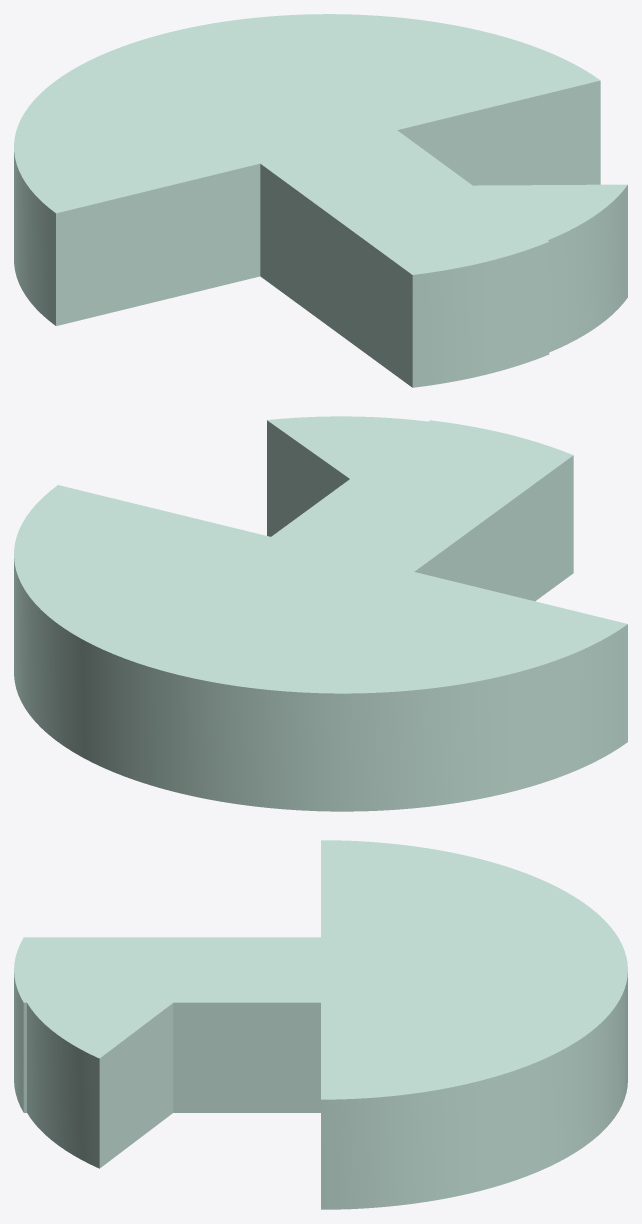
Rendered from orig.gltf.
3 views of the same model, one above another, from view 1: azimuth 30°, elevation 25°; view 2: azimuth 150°, elevation 25°; view 3: azimuth 270°, elevation 25° (orthographic). The views are drawn at different scales.
Visible parts, largest first — view 1: Renderer Node; view 2: Renderer Node; view 3: Renderer Node.
Part boxes in pixels (bbox=[...]): Renderer Node: bbox=[14, 14, 627, 387]; Renderer Node: bbox=[14, 416, 627, 811]; Renderer Node: bbox=[14, 840, 627, 1209].
Bounding box in the file's own units: 1.5 × 0.2969 × 1.5.
